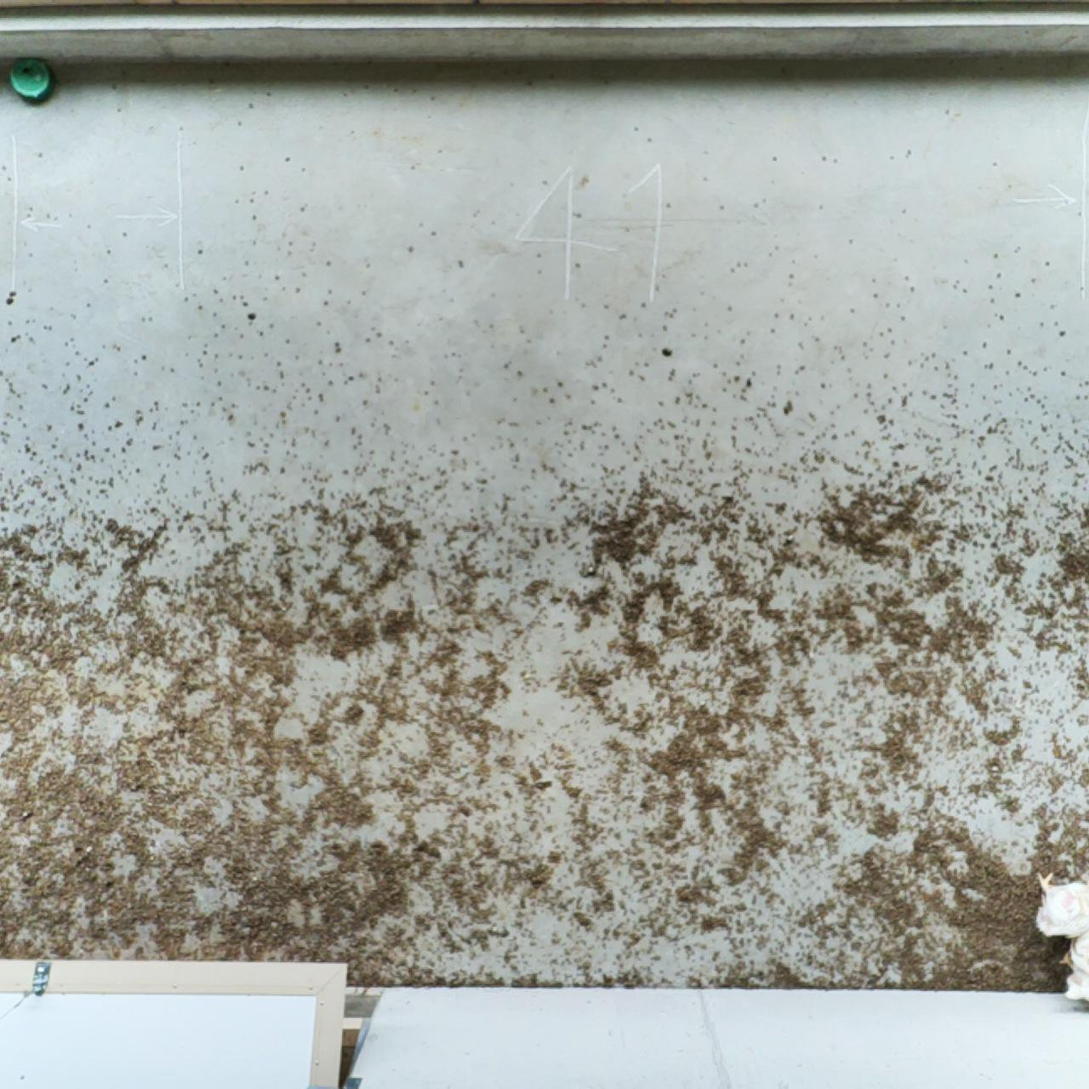chicken: (1029, 864, 1089, 944), (1053, 925, 1089, 978), (1060, 970, 1089, 1006)
